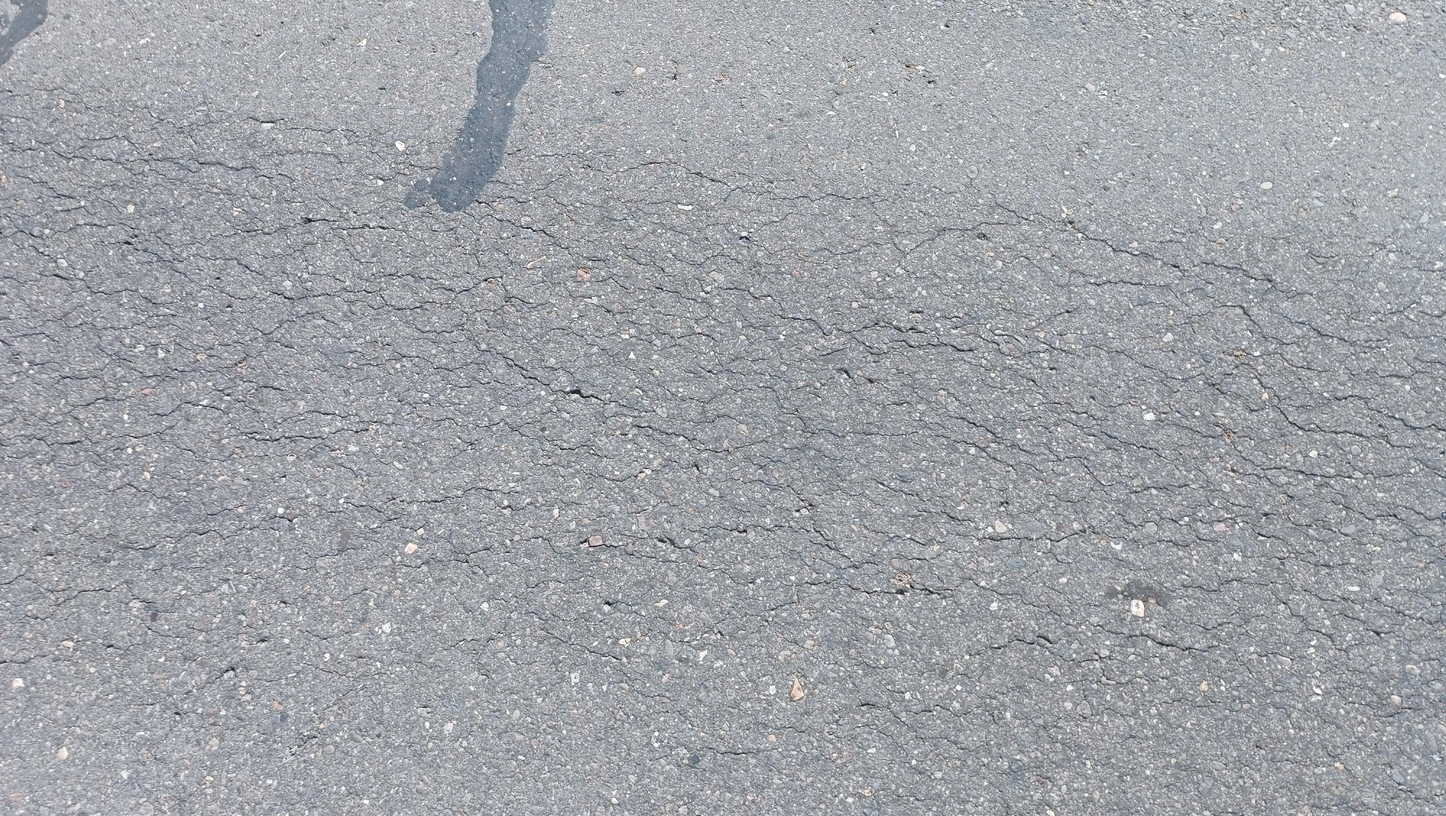PIEL DE COCODRILO: (3, 92, 1446, 695)
